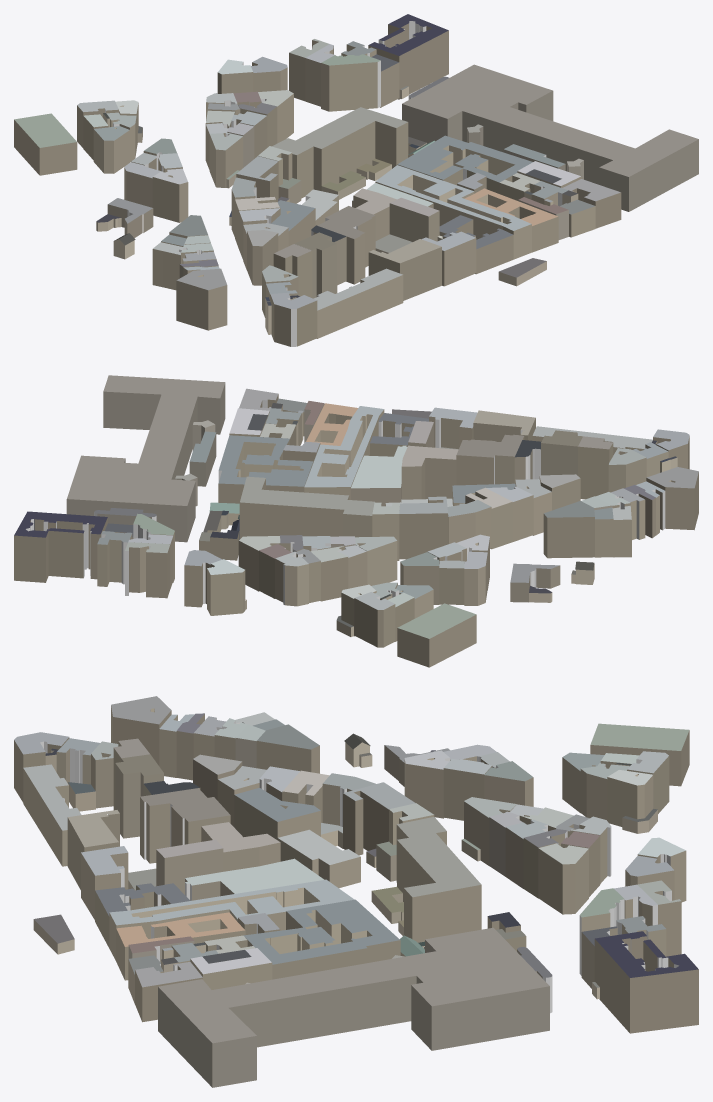
3 views of the same model, one above another, from view 1: azimuth 30°, elevation 25°; view 2: azimuth 150°, elevation 25°; view 3: azimuth 270°, elevation 25° (orthographic). The views are drawn at different scales.
Visible parts, largest first — view 1: tuile; view 2: tuile; view 3: tuile.
Part boxes in pixels (left/top/right/bottom): tuile: left=14, top=14, right=698, bottom=346; tuile: left=14, top=375, right=698, bottom=667; tuile: left=14, top=696, right=698, bottom=1087.
Size of the model in its own units: 314 by 29.99 by 269.
